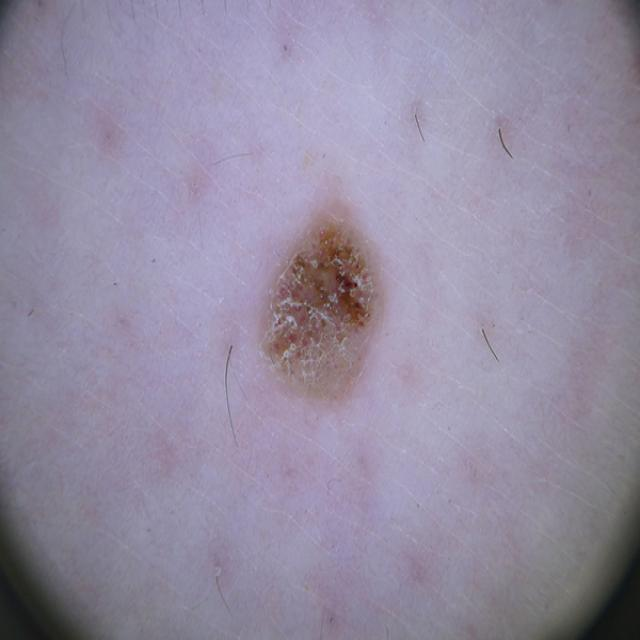Skin-Cancer Pigmented benign keratosis: (73, 69, 586, 581)
